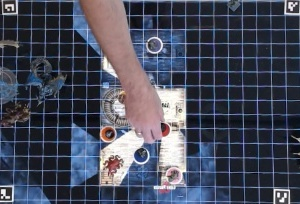blue: (131, 145, 151, 166)
orange: (98, 123, 118, 144)
pink: (164, 165, 184, 183)
red: (154, 121, 174, 138)
violet: (144, 34, 166, 55)
yellow: (117, 89, 130, 102)
